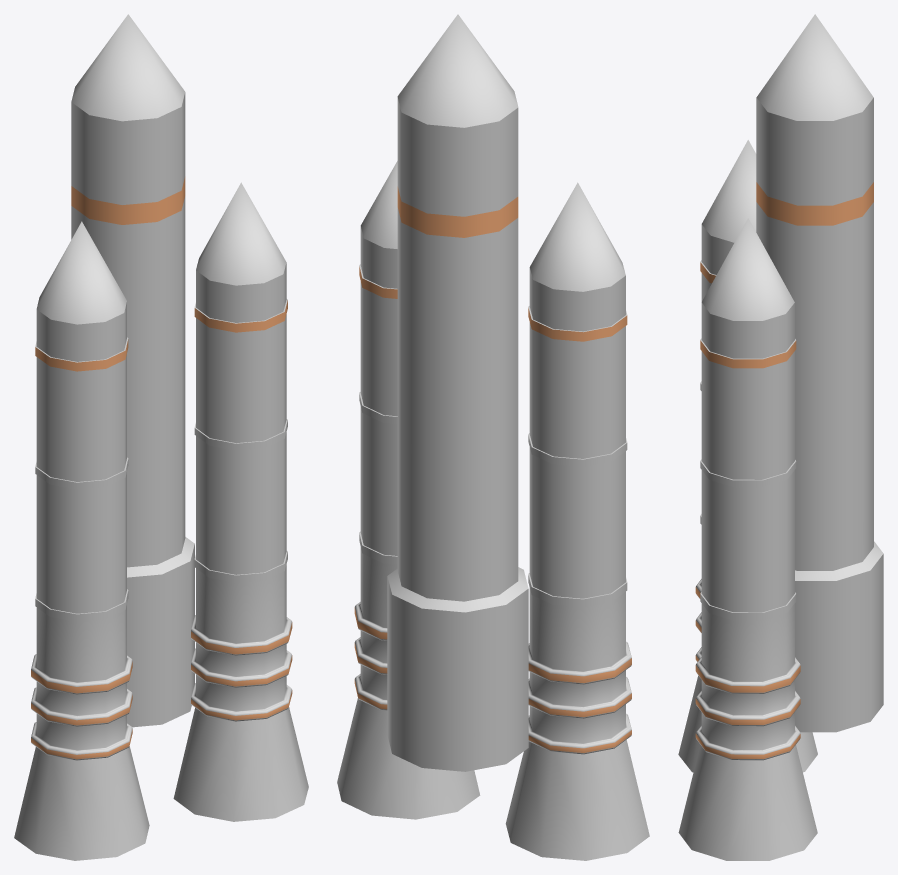
File: rocket1.fbx
3 renders of one model, left to right at view 1: azimuth 30°, elevation 25°; view 2: azimuth 150°, elevation 25°; view 3: azimuth 270°, elevation 25°, orthographic. The views are drawn at different scales.
Parts seen in each view (by area): view 1: pCone4; view 2: pCone4; view 3: pCone4.
Boxes of the visible parts, x1,y1,x2,y2 form: pCone4: (14, 14, 308, 860); pCone4: (337, 14, 649, 860); pCone4: (678, 14, 883, 860).
Size of the model in its own units: 32.7 by 88.37 by 21.08.
